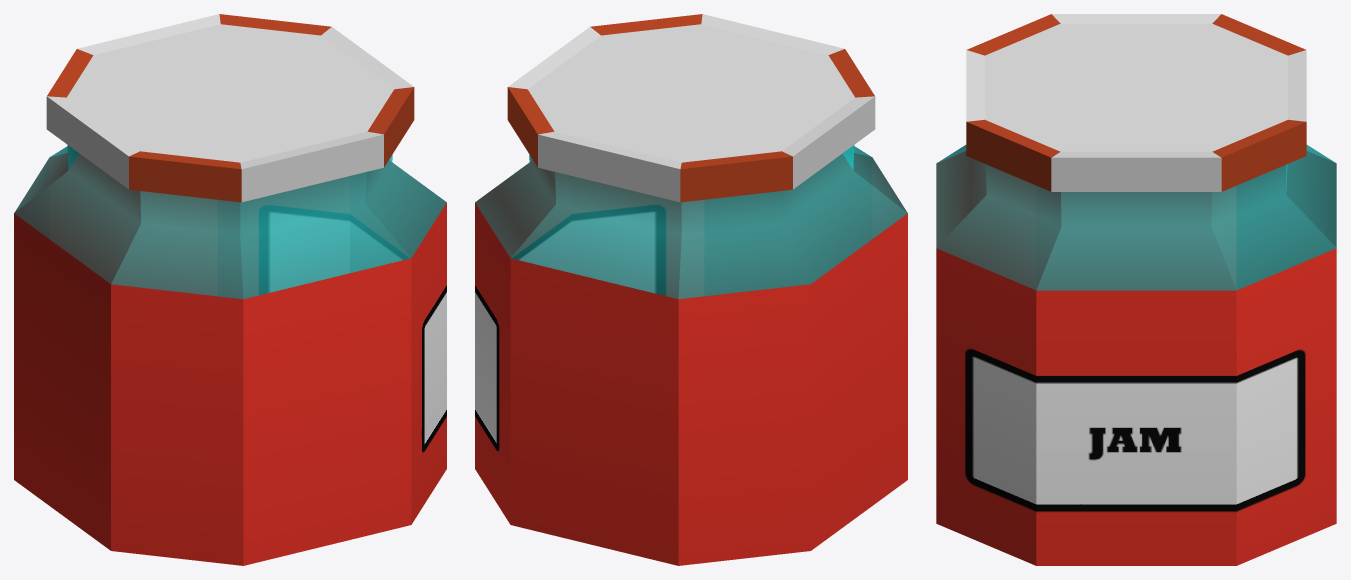
The model's file is Jam.fbx.
3 views of the same model, side by side, from view 1: azimuth 30°, elevation 25°; view 2: azimuth 150°, elevation 25°; view 3: azimuth 270°, elevation 25° (orthographic). The views are drawn at different scales.
Visible parts, largest first — view 1: pCube1; view 2: pCube1; view 3: pCube1.
Boxes of the visible parts, x1,y1,x2,y2 form: pCube1: [14, 14, 446, 565]; pCube1: [475, 14, 907, 565]; pCube1: [936, 14, 1336, 565].
Size of the model in its own units: 1 by 1.09 by 1.
